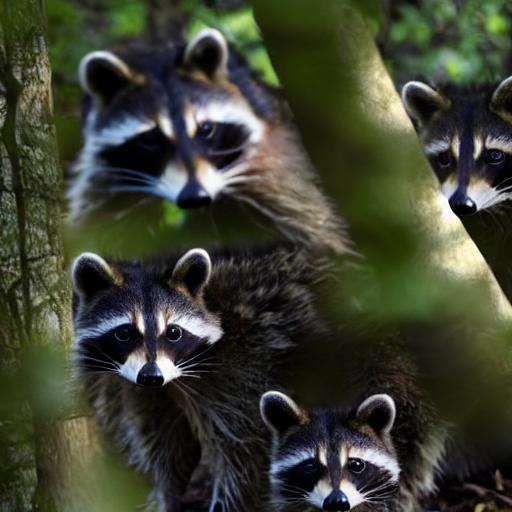raccoon: (67, 23, 363, 262), (69, 246, 264, 502), (253, 381, 481, 512), (398, 73, 512, 259)
